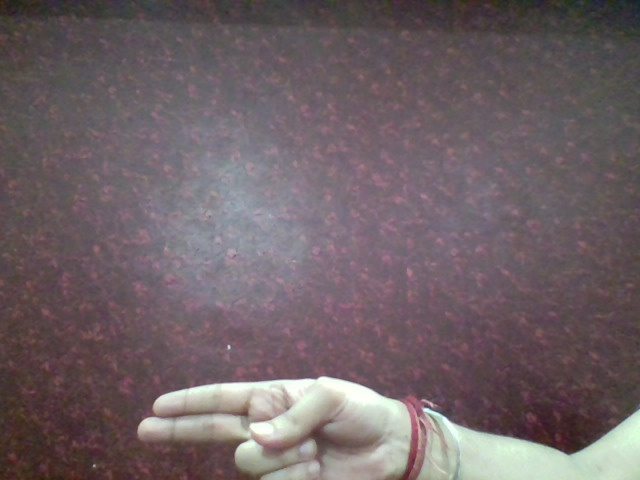h: (125, 365, 403, 480)
